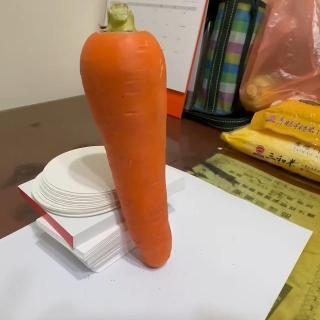carrot: (78, 2, 174, 270)
